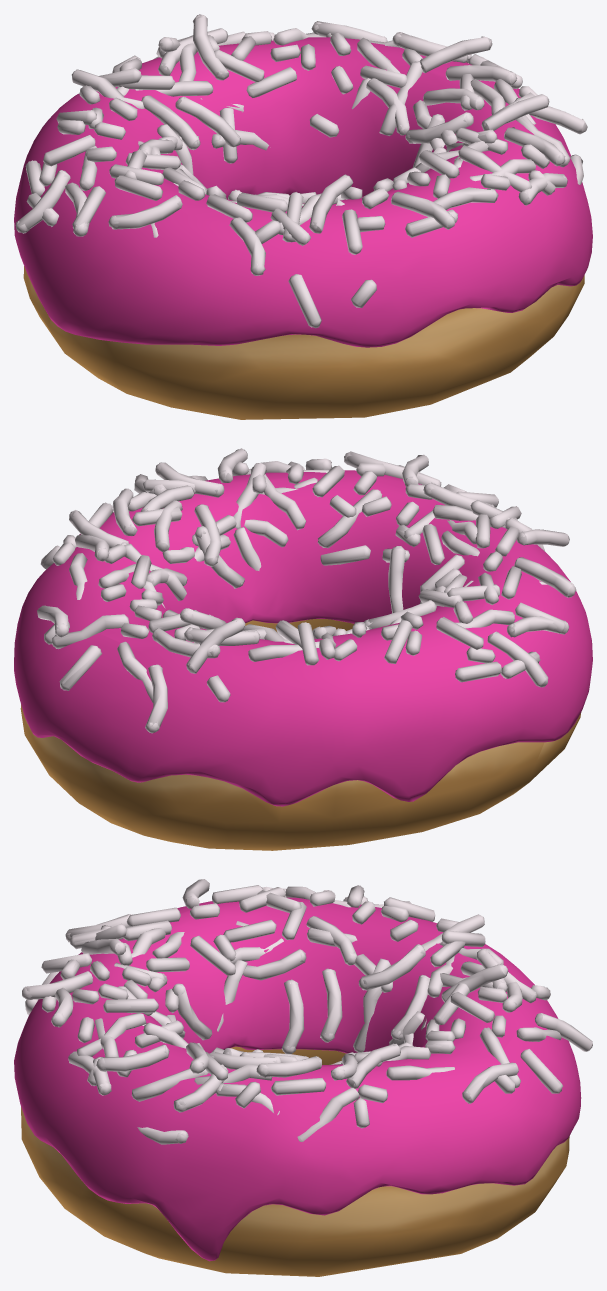
Rendered from DonutNickBevers.glb.
3 renders of one model, top to bottom at view 1: azimuth 30°, elevation 25°; view 2: azimuth 150°, elevation 25°; view 3: azimuth 270°, elevation 25°, orthographic. The views are drawn at different scales.
Parts seen in each view (by area): view 1: glaze, topping, donut; view 2: glaze, topping, donut; view 3: glaze, topping, donut.
Part boxes in pixels (<box>): glaze: <box>14,37,592,347</box>; topping: <box>15,14,587,328</box>; donut: <box>23,266,584,419</box>; glaze: <box>14,470,592,806</box>; topping: <box>37,448,576,733</box>; donut: <box>20,619,581,850</box>; glaze: <box>14,897,581,1261</box>; topping: <box>22,879,592,1144</box>; donut: <box>21,1046,569,1276</box>.
Size of the model in its own units: 0.1596 by 0.0703 by 0.1589.
3 materials, 1 textured.
